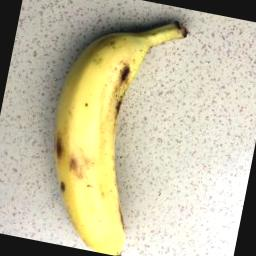Banana Ripe: (17, 0, 195, 256)
